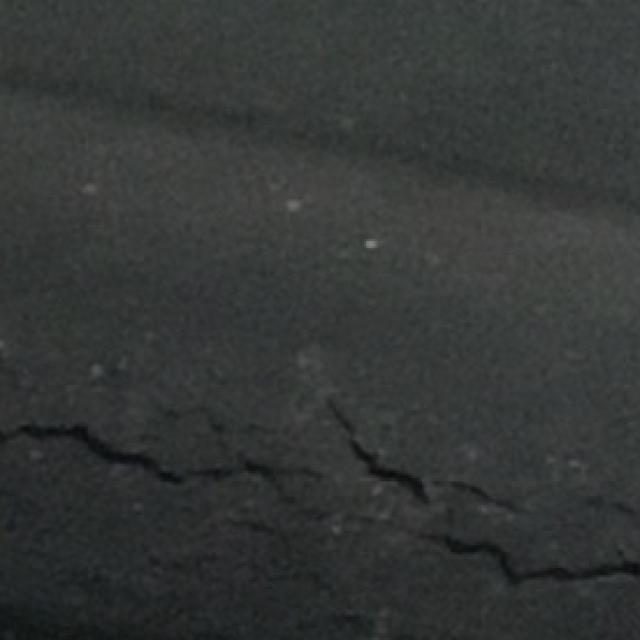Cracks: (0, 320, 638, 640)
